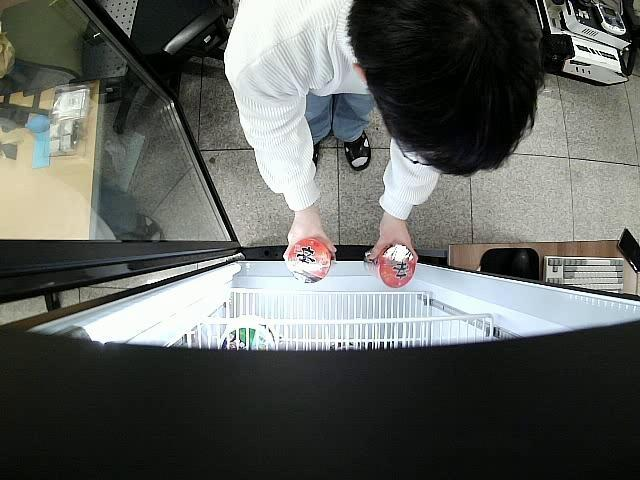02_shinRamen_S: (364, 244, 416, 287), (286, 238, 332, 283)
